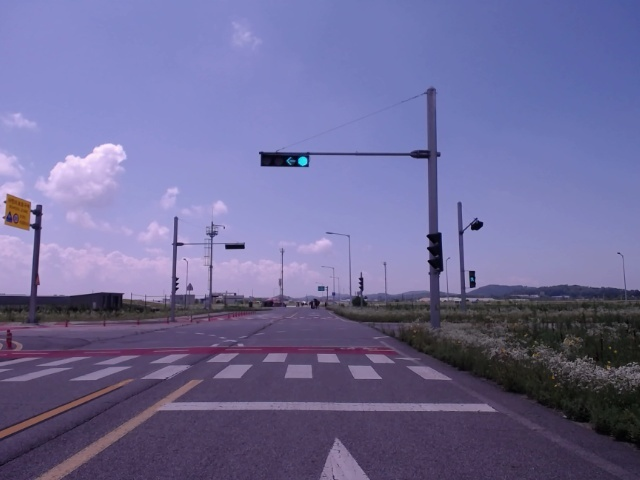all_green_4: (260, 150, 312, 166)
